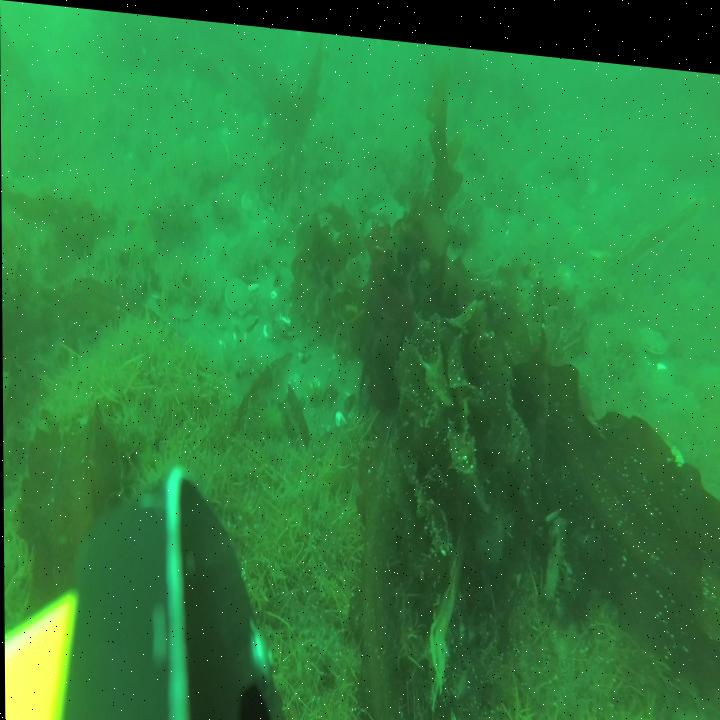scallop: (668, 678, 720, 720), (222, 271, 254, 314), (639, 308, 668, 346), (207, 223, 229, 253), (240, 182, 263, 210), (171, 296, 196, 319)
